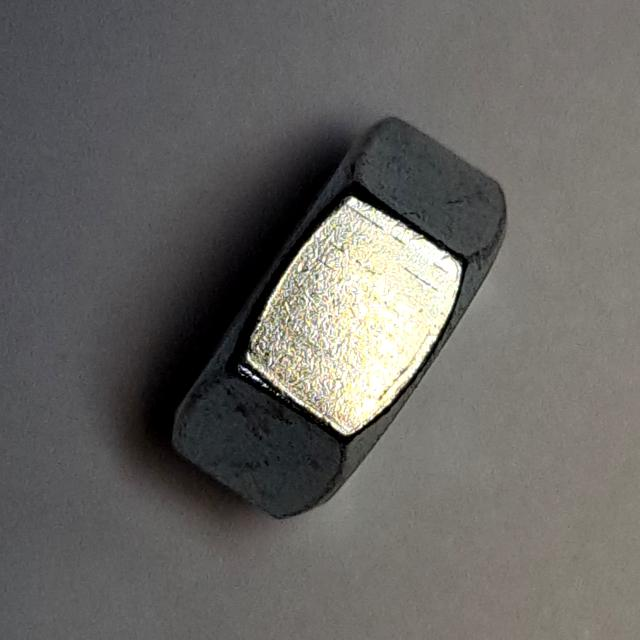Side_Excellent: (161, 102, 531, 539)
